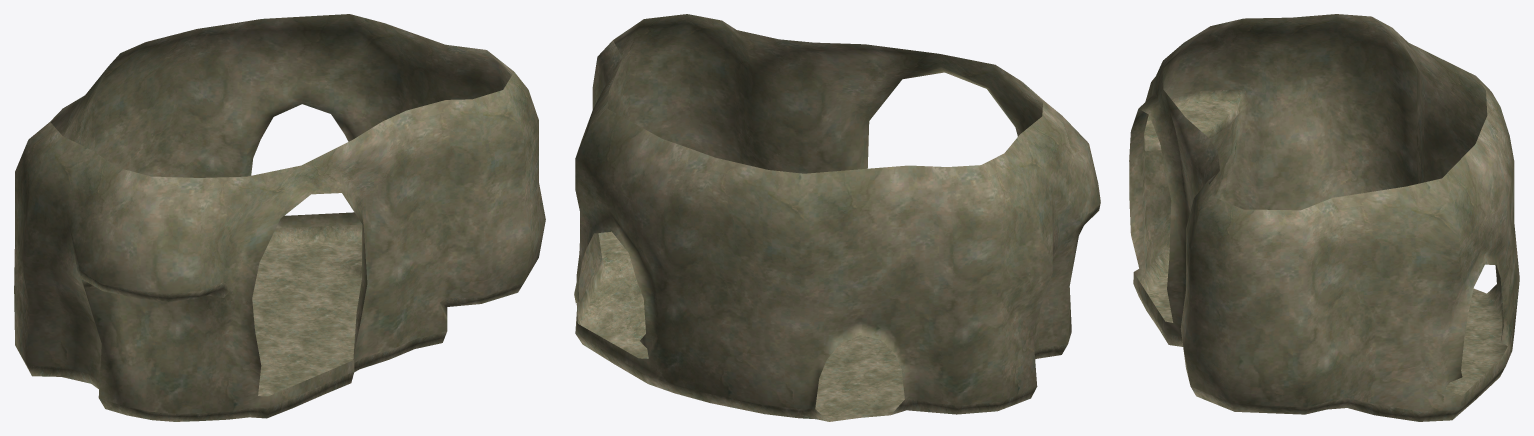
The model's file is OVERHILL_A_01_CHIMNEY_CAVE_LOWER.fbx.
The picture shows the model from 3 angles, left to right: view 1: azimuth 30°, elevation 25°; view 2: azimuth 150°, elevation 25°; view 3: azimuth 270°, elevation 25°; orthographic projection.
Parts seen in each view (by area): view 1: OVERHILL_A_01_CHIMNEY_CAVE_LOWER; view 2: OVERHILL_A_01_CHIMNEY_CAVE_LOWER; view 3: OVERHILL_A_01_CHIMNEY_CAVE_LOWER.
Boxes of the visible parts, <box> form: OVERHILL_A_01_CHIMNEY_CAVE_LOWER: <box>14,14,545,421</box>; OVERHILL_A_01_CHIMNEY_CAVE_LOWER: <box>574,14,1100,421</box>; OVERHILL_A_01_CHIMNEY_CAVE_LOWER: <box>1129,14,1519,421</box>.
Size of the model in its own units: 137132 by 64827 by 98740.
1 material, 1 textured.
